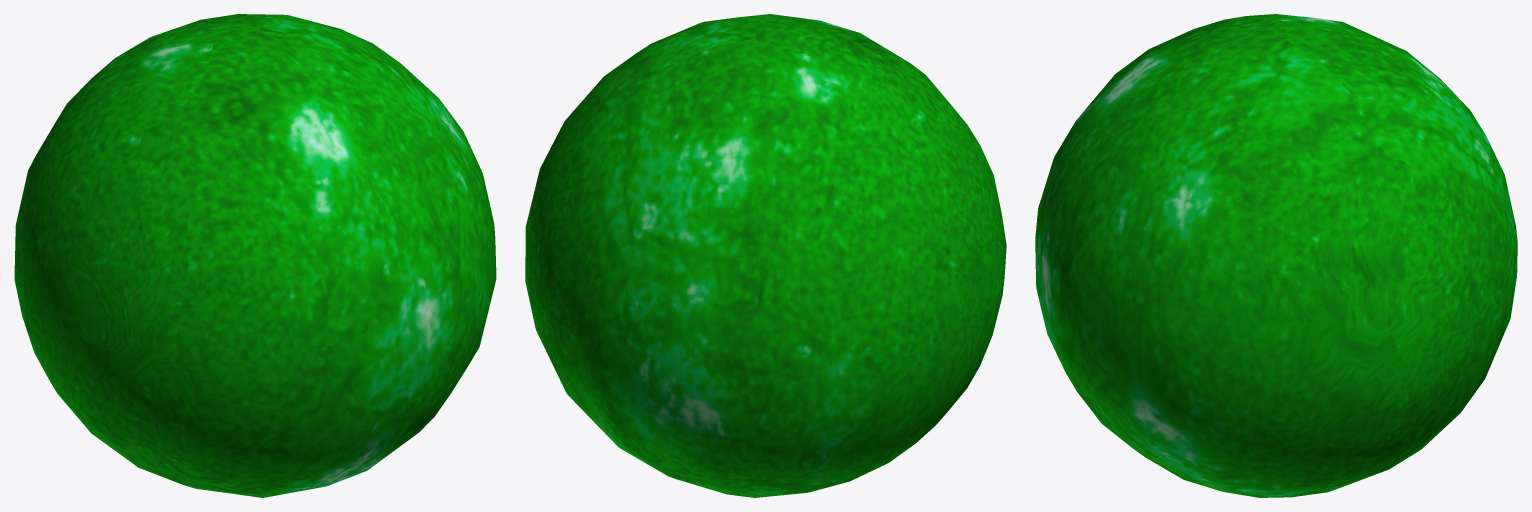
File: marsh.fbx
3 renders of one model, left to right at view 1: azimuth 30°, elevation 25°; view 2: azimuth 150°, elevation 25°; view 3: azimuth 270°, elevation 25°, orthographic.
Parts seen in each view (by area): view 1: Icosphere.013; view 2: Icosphere.013; view 3: Icosphere.013.
Part boxes in pixels (box(x1,y1,x2,y2)): Icosphere.013: box(14, 14, 496, 497); Icosphere.013: box(525, 14, 1006, 497); Icosphere.013: box(1035, 14, 1517, 497).
Bounding box in the file's own units: 726 × 724 × 728.
Materials: 1 (1 with a texture image).
